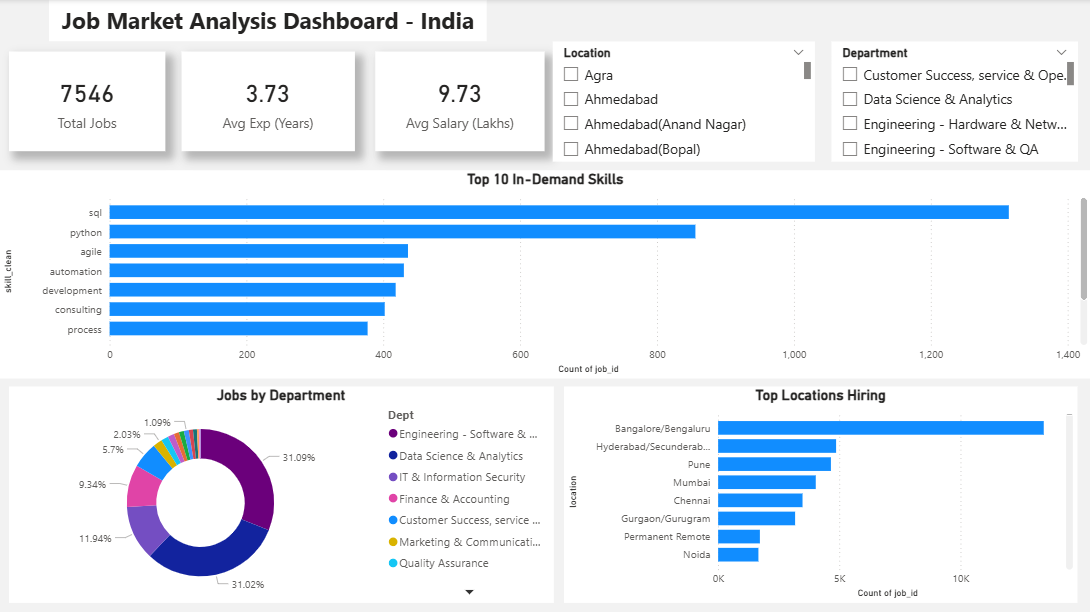

The dashboard page shown, as its layout file describes it:
{"tool":"powerbi","page":{"name":"Market Analysis","canvas":[1280,720],"ordinal":0},"visuals":[{"type":"card","fields":{"Values":["job_market_analysis fact_jobs.Total Jobs"]},"box":[11.3,62,183.1,116.9],"z":0},{"type":"card","fields":{"Values":["job_market_analysis fact_jobs.Avg Exp (Years)"]},"box":[214.1,62,202.8,116.9],"z":1000},{"type":"card","fields":{"Values":["job_market_analysis fact_jobs.Avg Salary (Lakhs)"]},"box":[440.8,62,198.6,116.9],"z":2000},{"type":"clusteredBarChart","title":"Top 10 In-Demand Skills","fields":{"Category":["job_market_analysis fact_job_skills.skill_clean"],"Y":["CountNonNull(job_market_analysis fact_job_skills.job_id)"]},"box":[0,200,1280.3,243.7],"z":3000},{"type":"donutChart","title":"Jobs by Department","fields":{"Category":["job_market_analysis fact_jobs.Dept"],"Y":["CountNonNull(job_market_analysis fact_jobs.job_id)"]},"box":[11.3,453.5,638,253.5],"z":4000},{"type":"clusteredBarChart","title":"Top Locations Hiring","fields":{"Category":["job_market_analysis fact_jobs.location"],"Y":["CountNonNull(job_market_analysis fact_job_skills.job_id)"]},"box":[662,453.5,601.4,253.5],"z":5000},{"type":"slicer","fields":{"Values":["job_market_analysis fact_jobs.Dept"]},"box":[974.7,49.3,288.7,140.8],"z":6000},{"type":"slicer","fields":{"Values":["job_market_analysis fact_jobs.location"]},"box":[649.3,49.3,307,140.8],"z":7000},{"type":"textbox","box":[58.7,1.7,513.2,48.4],"z":7001}]}

Visuals, with their boxes in screenshot pixels (x1, y1, x2, y2), scaled from the page's 1280x720 canvas onto the 1090x612 screenshot:
card - job_market_analysis fact_jobs.Total Jobs: Rect(10, 53, 166, 152)
card - job_market_analysis fact_jobs.Avg Exp (Years): Rect(182, 53, 355, 152)
card - job_market_analysis fact_jobs.Avg Salary (Lakhs): Rect(375, 53, 544, 152)
"Top 10 In-Demand Skills" clusteredBarChart: Rect(0, 170, 1089, 377)
"Jobs by Department" donutChart: Rect(10, 385, 553, 601)
"Top Locations Hiring" clusteredBarChart: Rect(564, 385, 1076, 601)
slicer - job_market_analysis fact_jobs.Dept: Rect(830, 42, 1076, 162)
slicer - job_market_analysis fact_jobs.location: Rect(553, 42, 814, 162)
textbox: Rect(50, 1, 487, 43)
